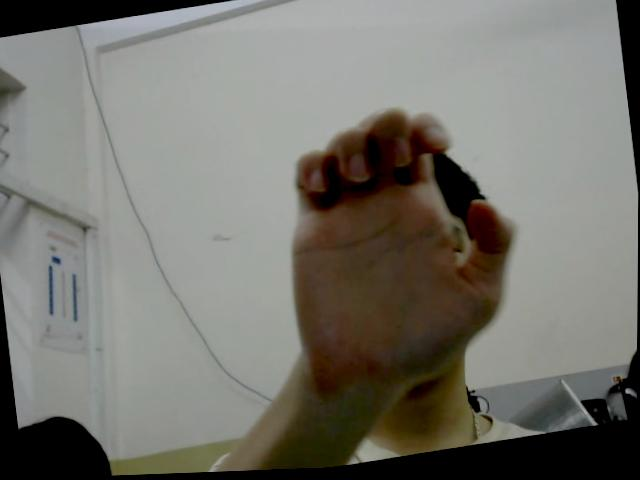E: (268, 88, 533, 403)
